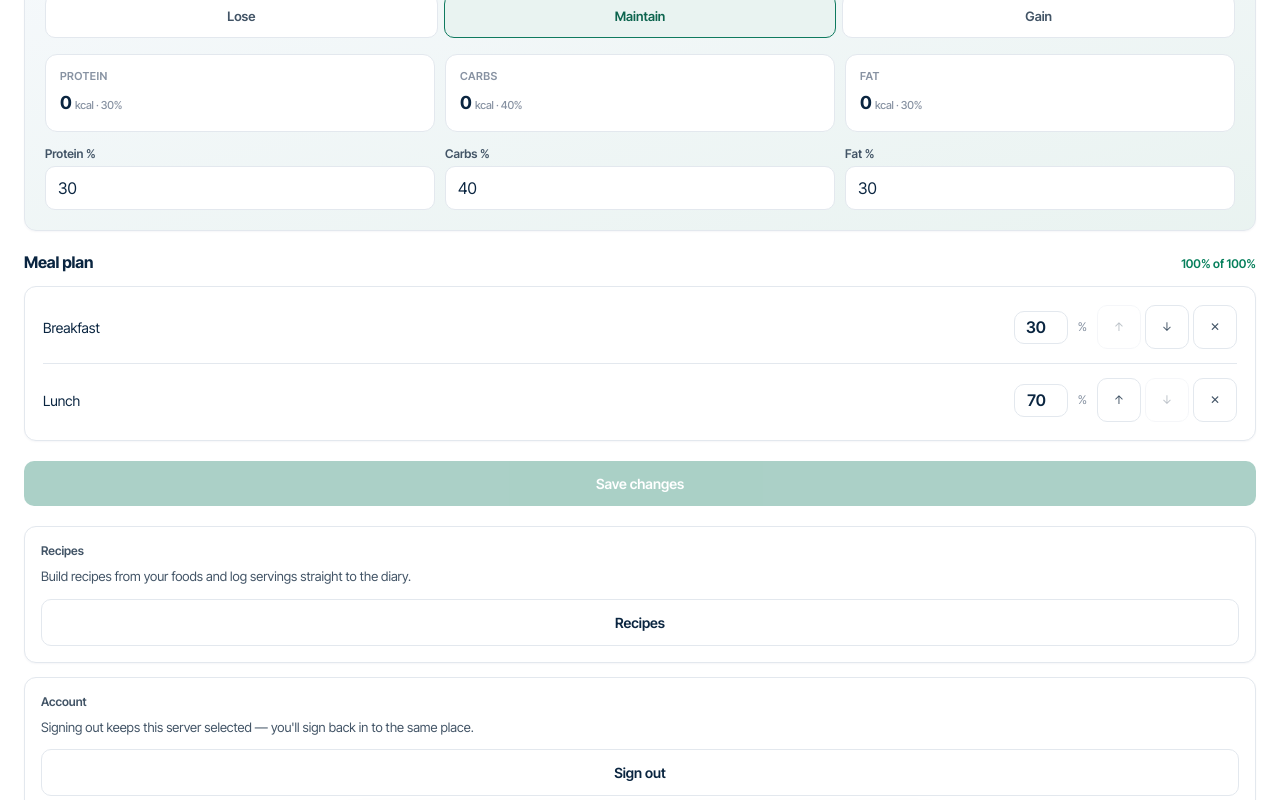
ProfileGoals — removing a meal slot › warns how much history the removal destroys
The width and height of the screenshot is (1280, 800).
(page scrolled)
Step 1. Click the button named "remove Lunch" → coordinates (1215, 400), box [1193,378,1237,422]
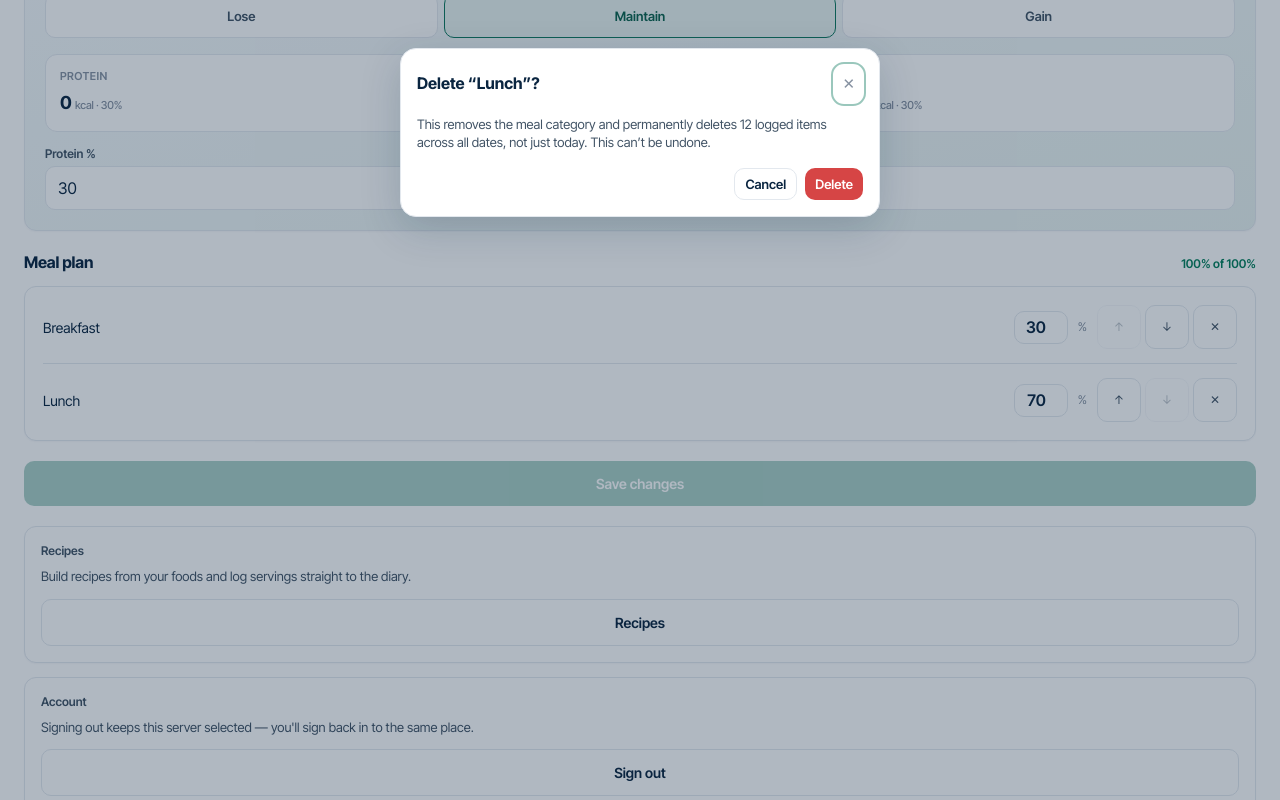
Expected: the dialog shows "12", [740,116,752,132]
Expected: the dialog shows "all dates", [417,134,711,150]
